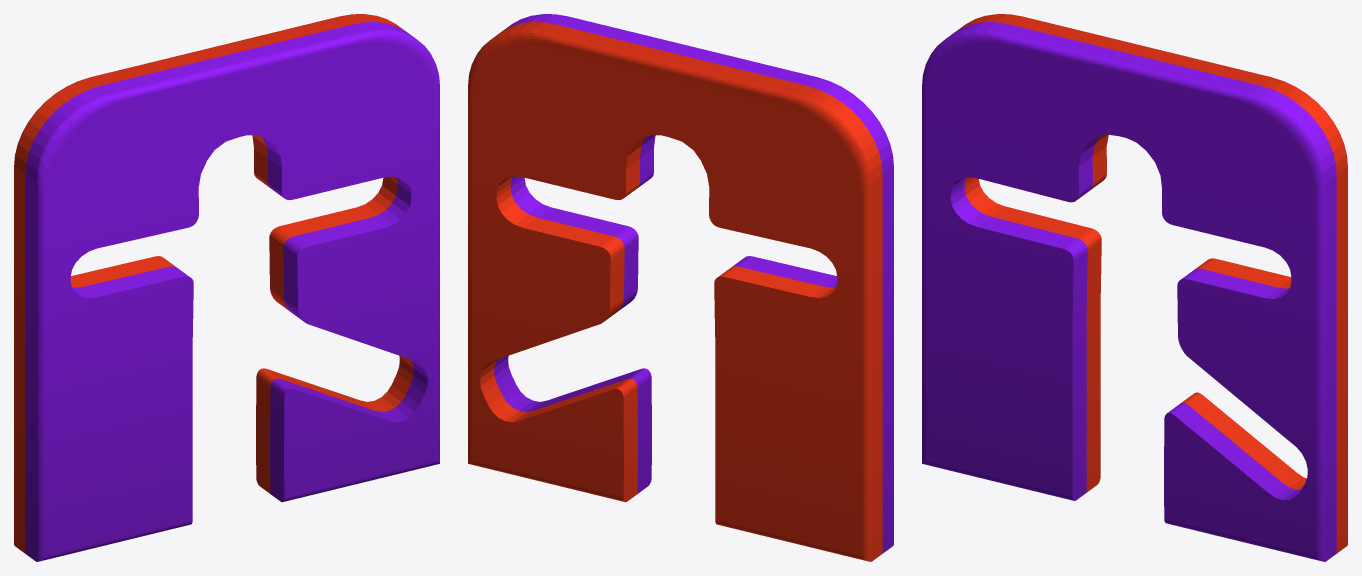
The model's file is wall_10.fbx.
The picture shows the model from 3 angles, left to right: view 1: azimuth 30°, elevation 25°; view 2: azimuth 150°, elevation 25°; view 3: azimuth 330°, elevation 25°; orthographic projection.
Visible parts, largest first — view 1: wall_10; view 2: wall_10; view 3: wall_10.
Part boxes in pixels (left/top/right/bottom): wall_10: left=14, top=14, right=439, bottom=561; wall_10: left=468, top=14, right=893, bottom=561; wall_10: left=922, top=14, right=1347, bottom=561.
Size of the model in its own units: 339 by 362 by 40.95.
Materials: 1 (1 with a texture image).
